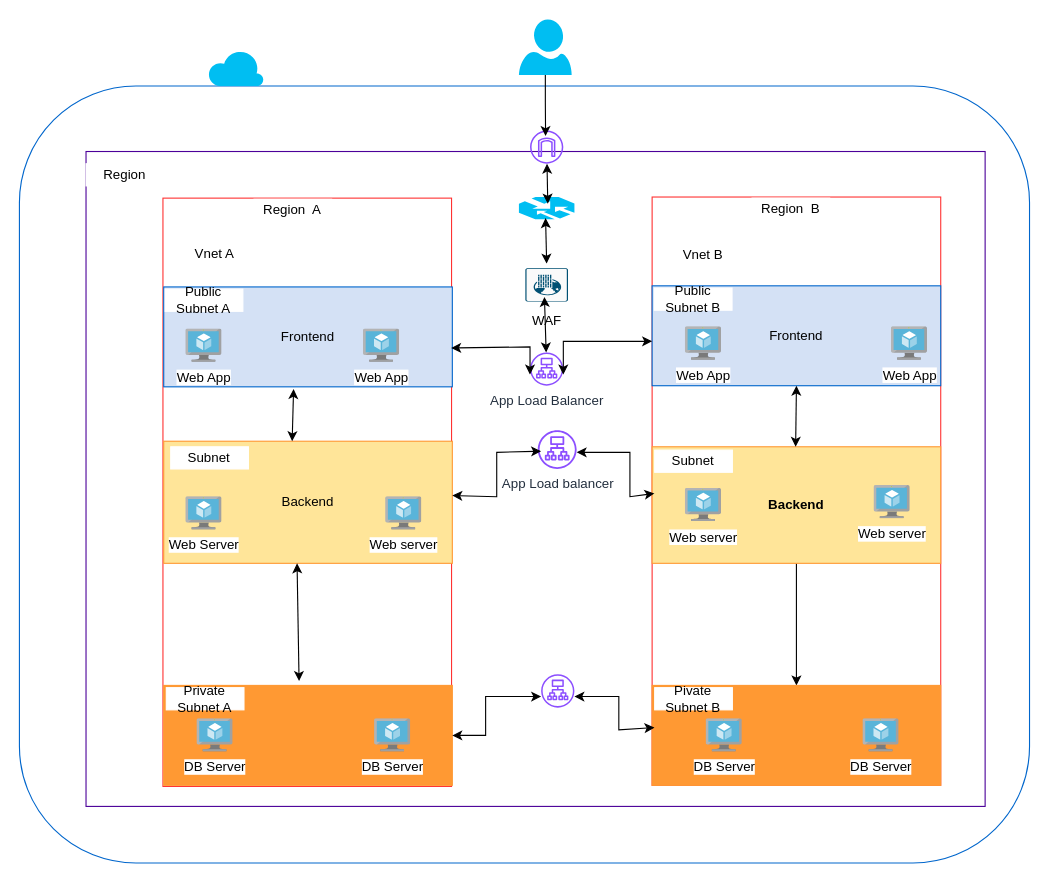
The diagram is 1049 pixels wide and 882 high, and some of its shapes have lost their labels. Each missing label, with the box of its shape:
Azure: (208, 49, 263, 85)
Azure Traffic M: (518, 196, 574, 219)
Load Balancer: (541, 674, 574, 707)
